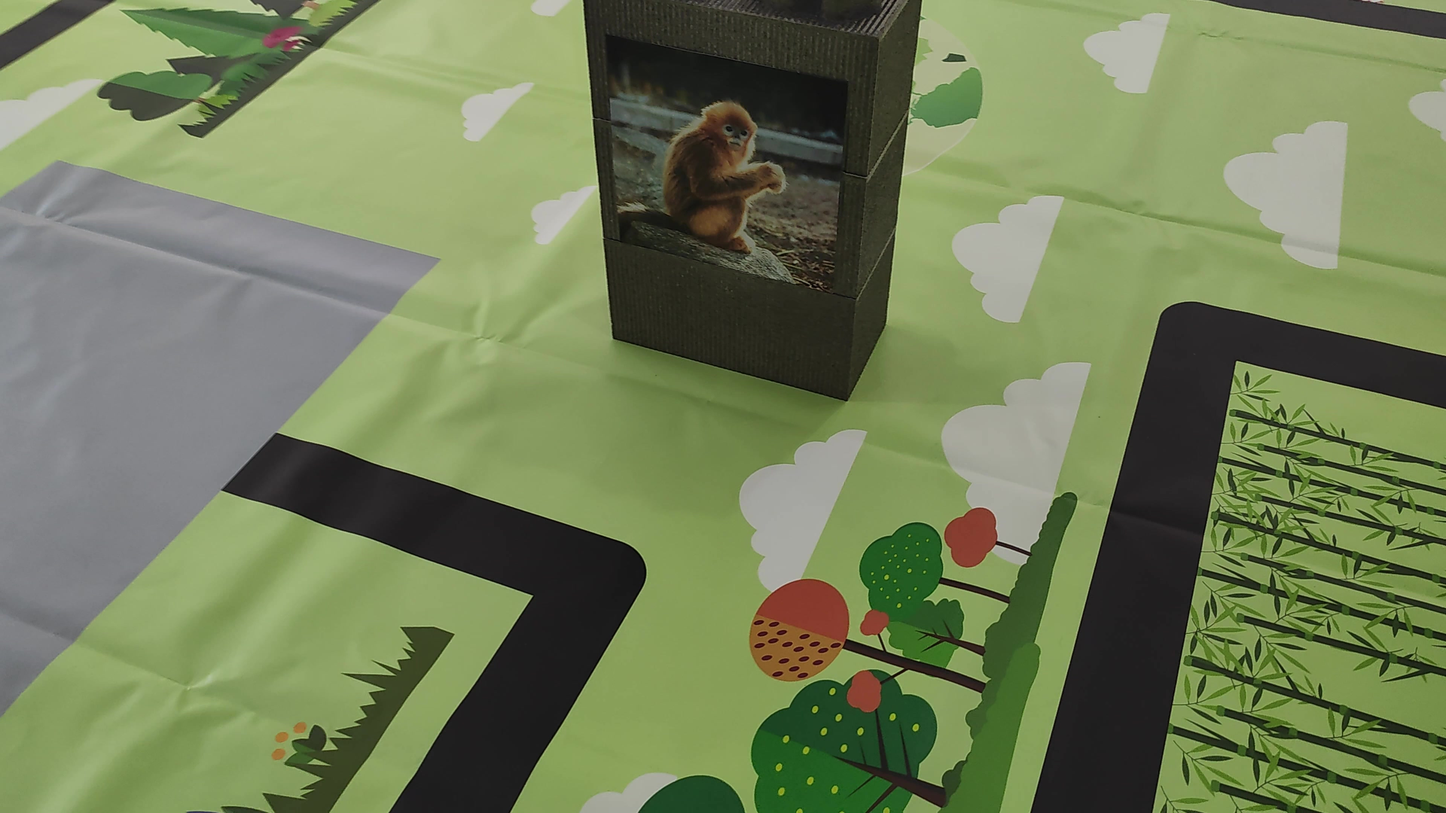monkey: (605, 92, 811, 264)
